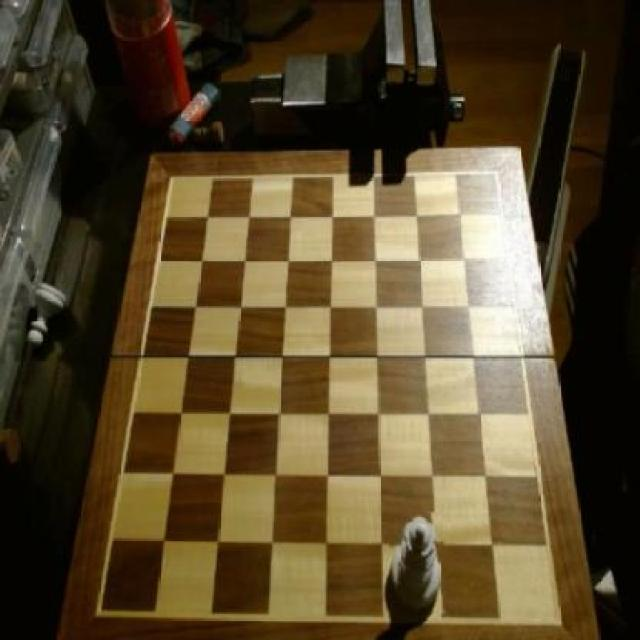white-pawn: (389, 514, 447, 619)
